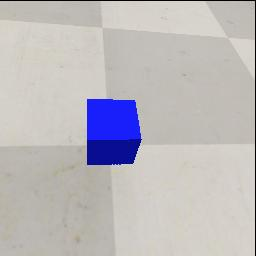box: (87, 99, 142, 165)
